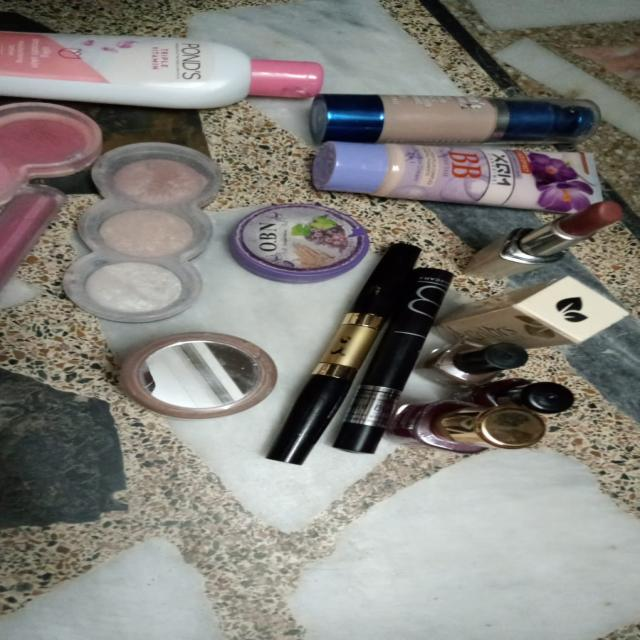bb cream: (326, 88, 626, 215)
eye shade: (83, 125, 233, 354)
lip balm: (185, 199, 400, 282)
lip stick: (432, 212, 640, 475)
lotion: (5, 15, 322, 112)
mascara: (273, 238, 475, 463)
